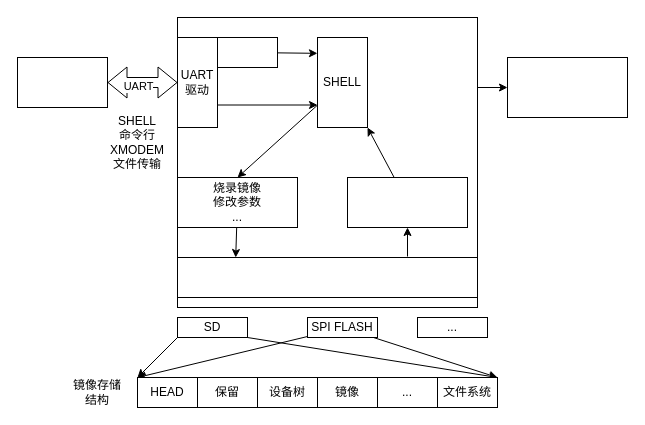
The diagram is 645 pixels wide and 425 high, and some of its shapes have lost their labels. Each missing label, with the centre of its shape:
SDRAM: [567,87]
XMODEM: [247,52]
串口终端: [62,82]
加载镜像 ...: [407,202]
存储介质驱动 读写接口: [327,277]
